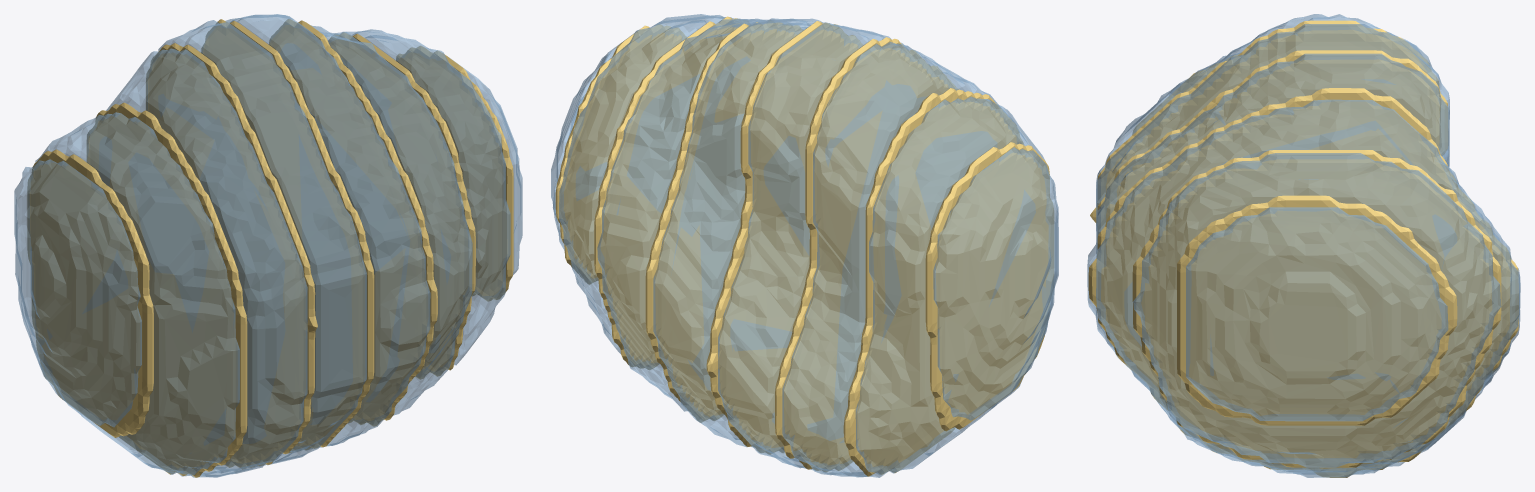
The model's file is prompt.glb.
3 views of the same model, side by side, from view 1: azimuth 30°, elevation 25°; view 2: azimuth 150°, elevation 25°; view 3: azimuth 270°, elevation 25° (orthographic). The views are drawn at different scales.
Visible parts, largest first — view 1: world; view 2: world; view 3: world.
Part boxes in pixels (bbox=[...]): world: bbox=[14, 14, 522, 477]; world: bbox=[551, 14, 1058, 477]; world: bbox=[1087, 14, 1520, 477].
Bounding box in the file's own units: 0.9397 × 0.8156 × 0.7687.
